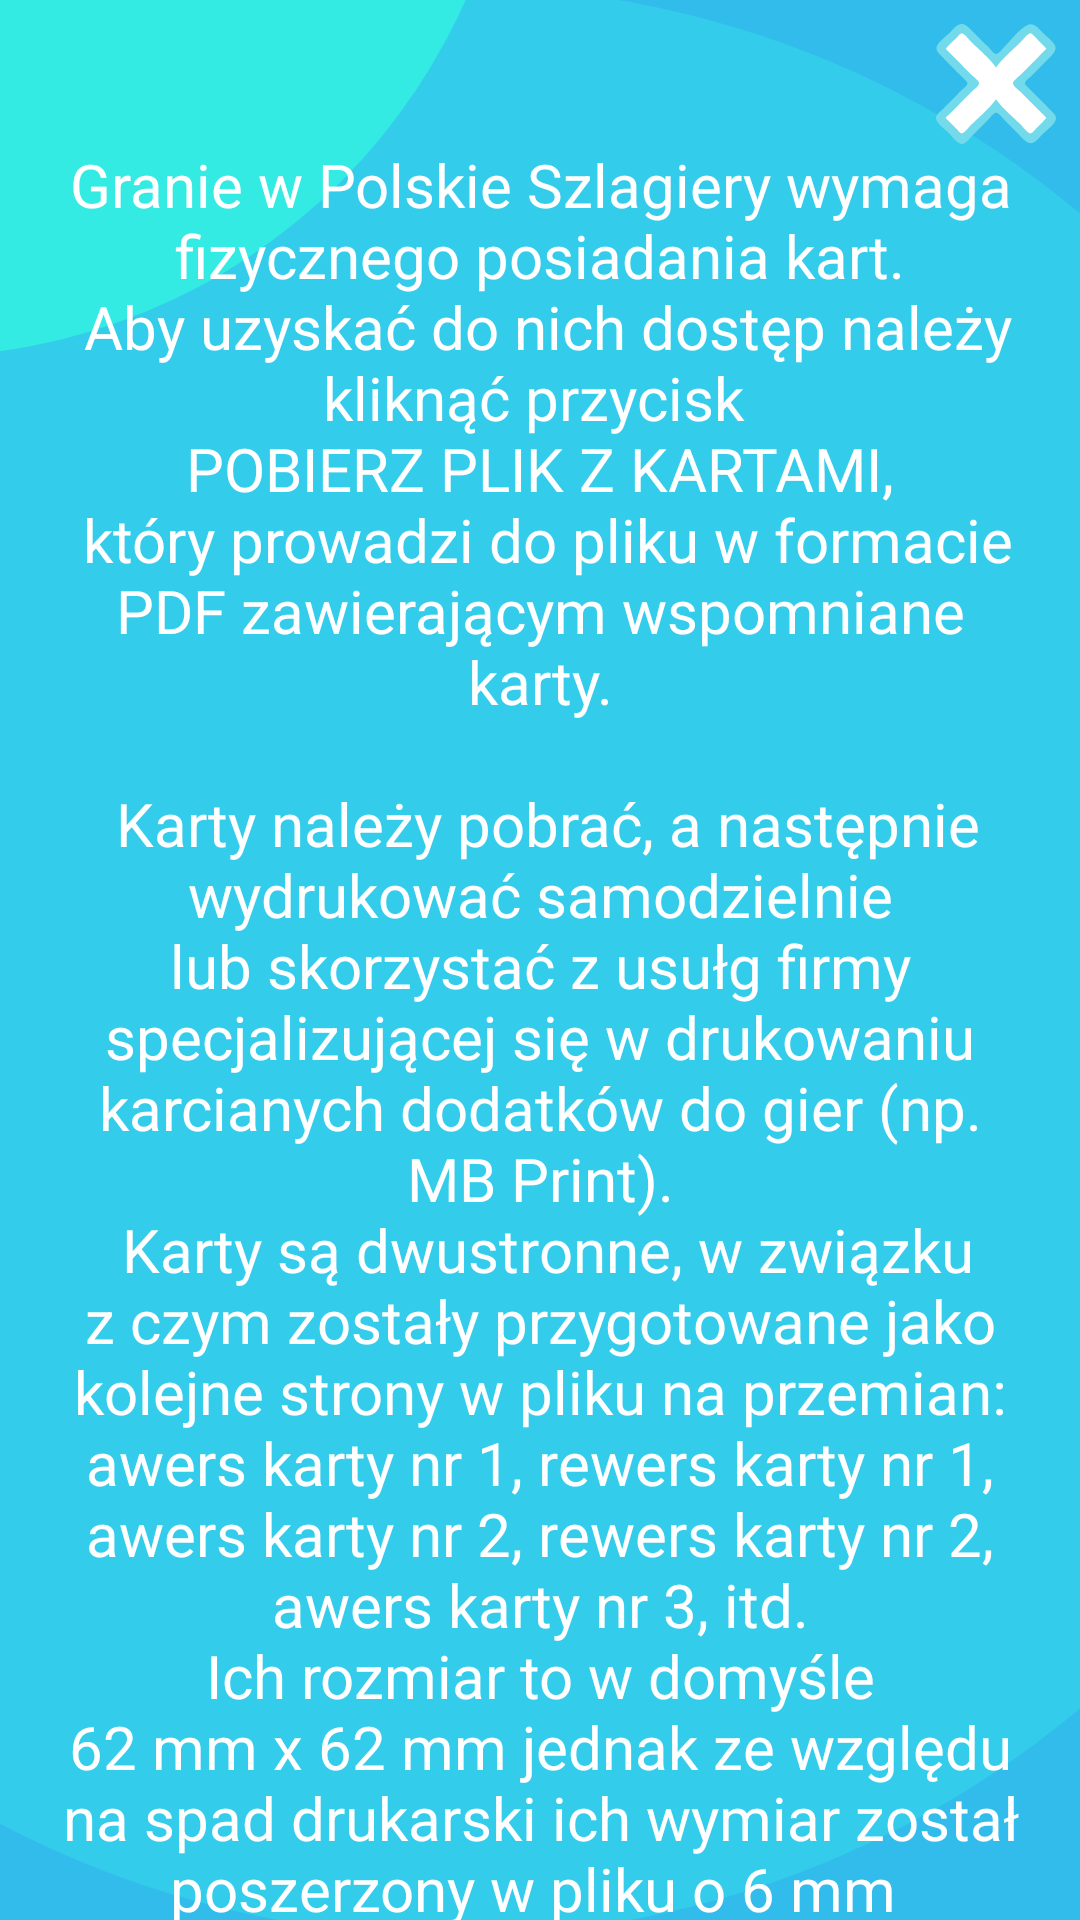

Point at icon controls on the screen. Image size 1080x1920, points as (x=x, y=y).
iks: (x=996, y=84)
